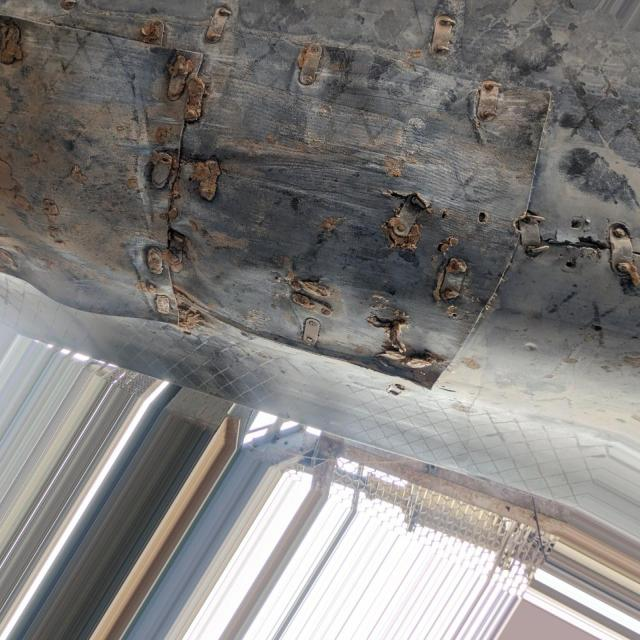patch work: (0, 0, 640, 414)
